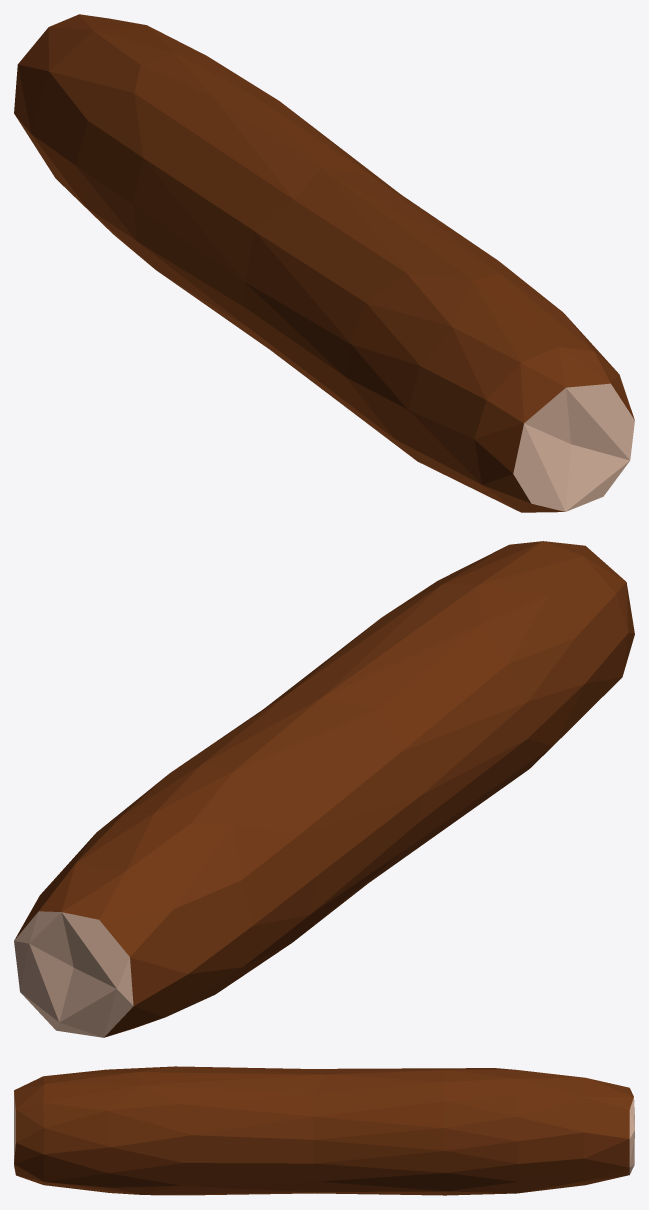
File: DriftWood.fbx
3 views of the same model, one above another, from view 1: azimuth 30°, elevation 25°; view 2: azimuth 150°, elevation 25°; view 3: azimuth 270°, elevation 25° (orthographic). The views are drawn at different scales.
Parts seen in each view (by area): view 1: 球.001; view 2: 球.001; view 3: 球.001.
Boxes of the visible parts, bbox=[...] form: 球.001: bbox=[14, 14, 634, 512]; 球.001: bbox=[14, 541, 634, 1037]; 球.001: bbox=[14, 1066, 634, 1195].
Size of the model in its own units: 136 by 136 by 657.
